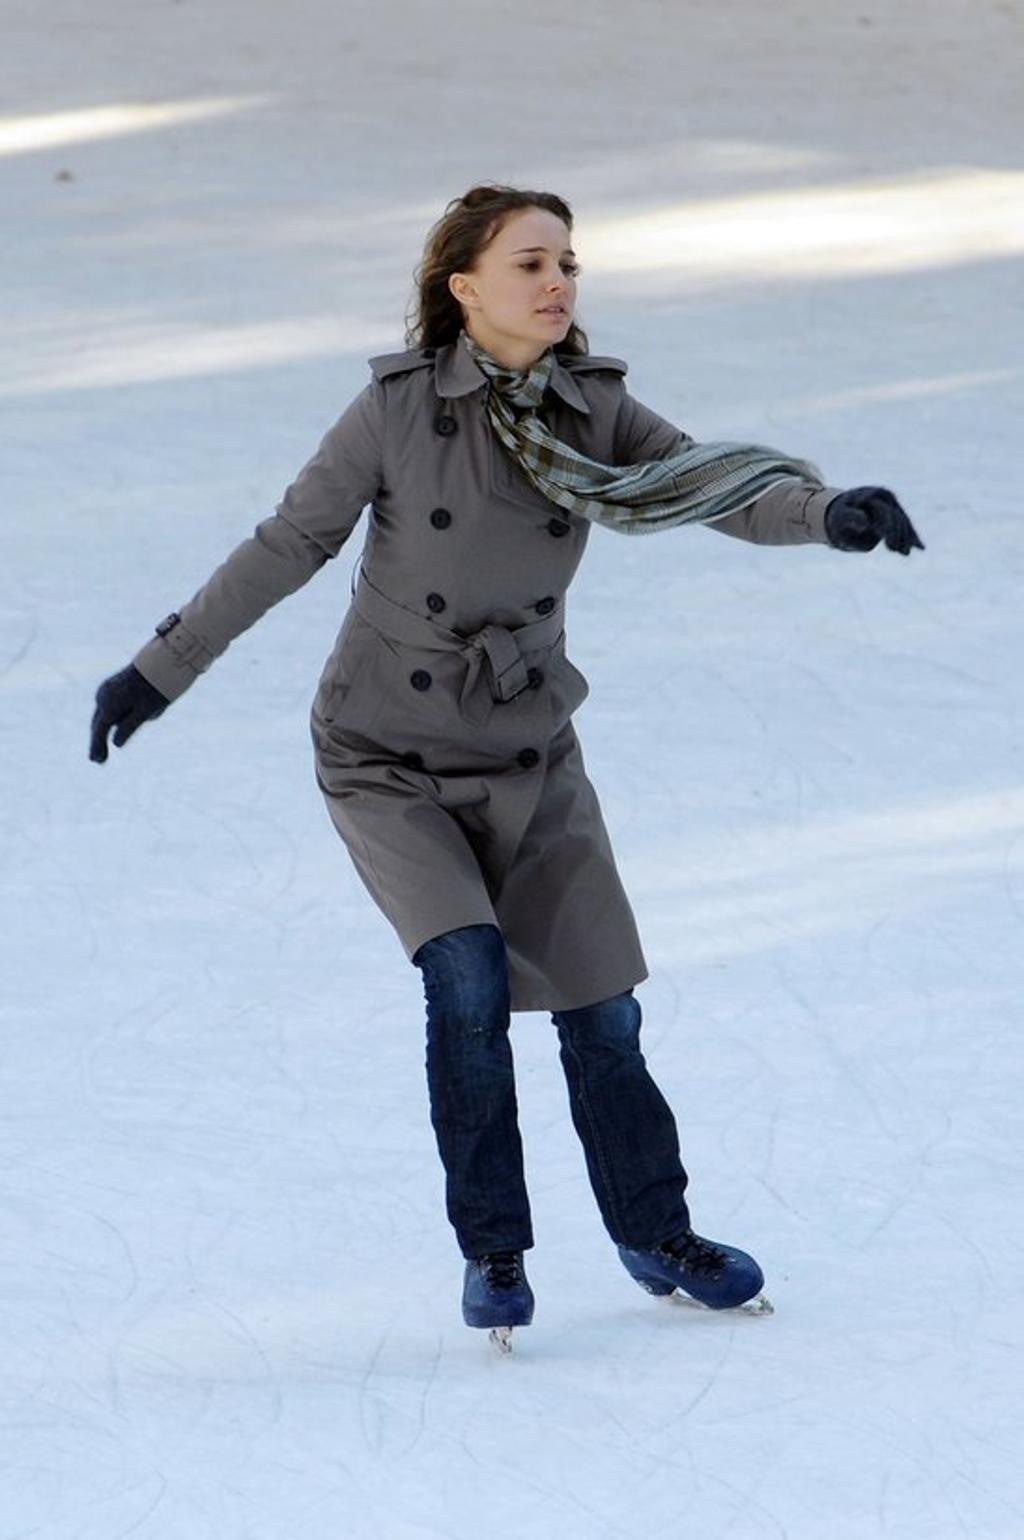face: (474, 210, 570, 342)
